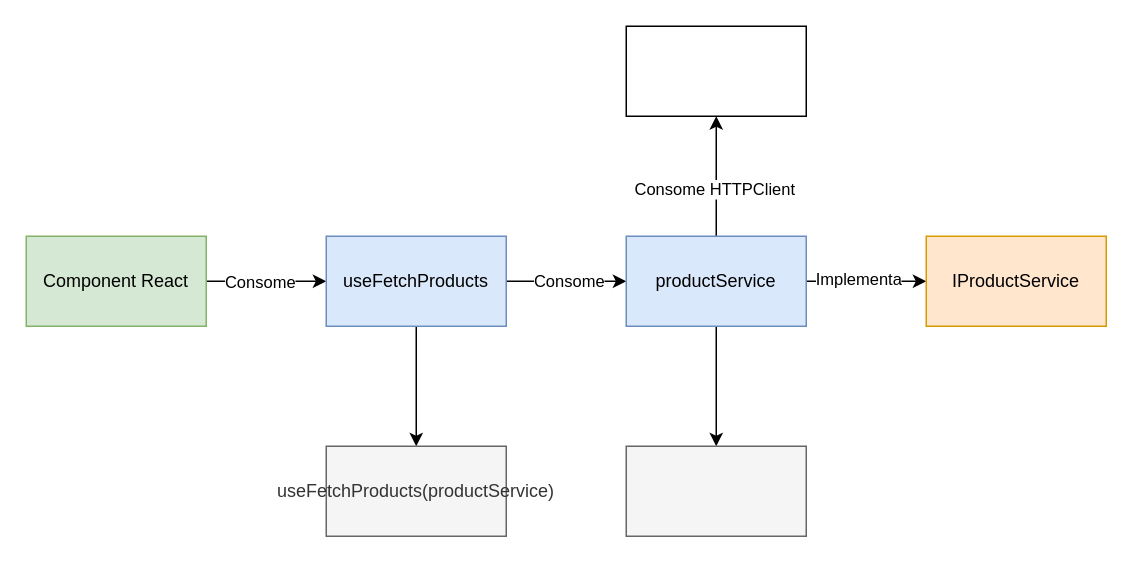
Image size: 1133x563. Some labels were removed from this diagram. The shapes that lost their labels are listed below. From the top down, each one's centre as x and y in pixels, then its label:
At point 715,70: "HTTPClient".
At point 715,490: "productService(httpClient)".
